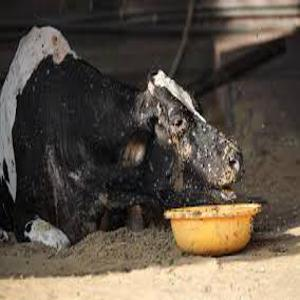lumpy skin diesease: (0, 23, 245, 250)
